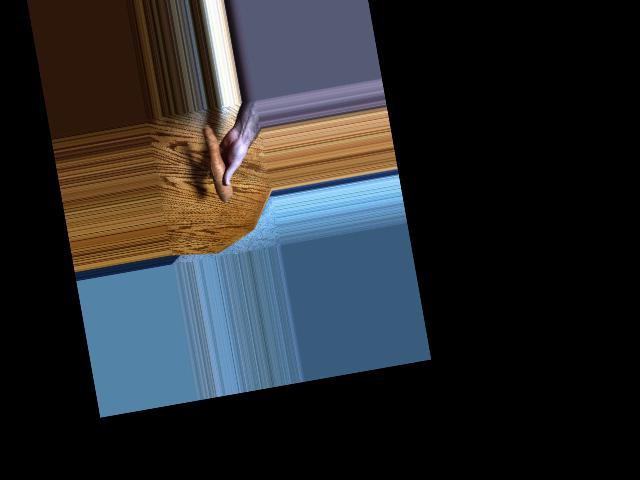sweet_potato: (199, 120, 231, 202)
